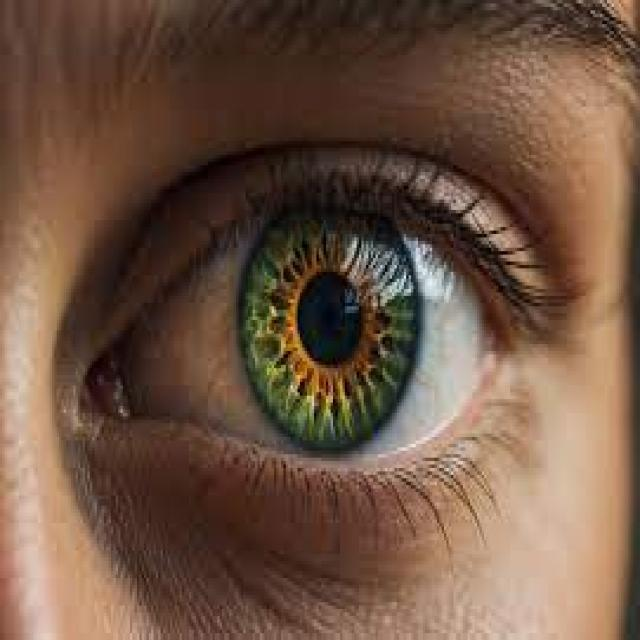Eyes-iris: (230, 188, 426, 458)
